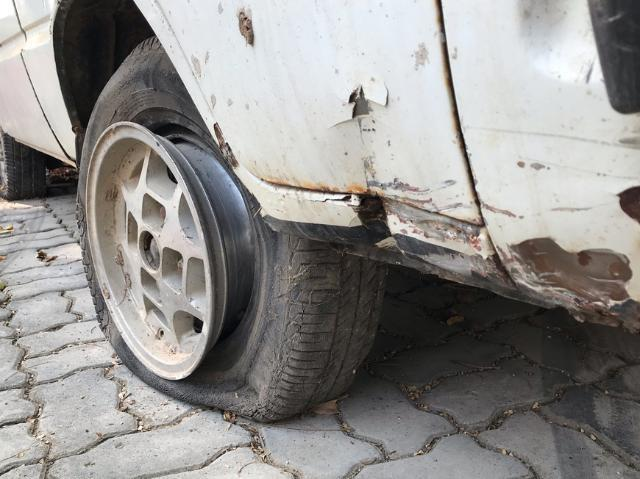Bumper: (436, 0, 640, 334)
Fender: (145, 0, 502, 271)
